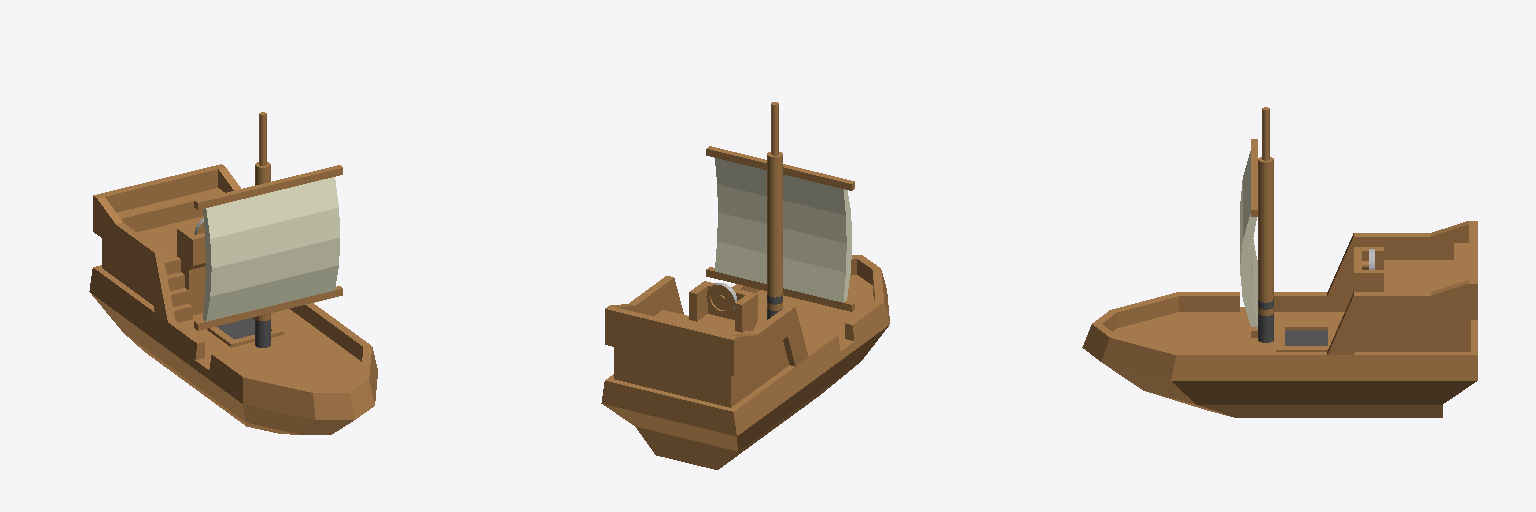
Rendered from enemy_0.obj.
The picture shows the model from 3 angles: view 1: azimuth 30°, elevation 25°; view 2: azimuth 150°, elevation 25°; view 3: azimuth 270°, elevation 25°; orthographic projection.
Visible parts, largest first — view 1: Mesh22_Group12_Group1_Model.001, Mesh12_Group14_Group12_Group1_Model.001, Mesh13_Group15_Group12_Group1_Model.001; view 2: Mesh22_Group12_Group1_Model.001, Mesh12_Group14_Group12_Group1_Model.001, Mesh13_Group15_Group12_Group1_Model.001, Mesh11_Group13_Group12_Group1_Model.001; view 3: Mesh22_Group12_Group1_Model.001, Mesh13_Group15_Group12_Group1_Model.001, Mesh12_Group14_Group12_Group1_Model.001.
Boxes of the visible parts, x1,y1,x2,y2 form: Mesh22_Group12_Group1_Model.001: [89, 164, 377, 434]; Mesh12_Group14_Group12_Group1_Model.001: [194, 165, 342, 330]; Mesh13_Group15_Group12_Group1_Model.001: [255, 112, 270, 347]; Mesh22_Group12_Group1_Model.001: [601, 255, 889, 469]; Mesh12_Group14_Group12_Group1_Model.001: [706, 146, 854, 311]; Mesh13_Group15_Group12_Group1_Model.001: [767, 102, 782, 319]; Mesh11_Group13_Group12_Group1_Model.001: [706, 283, 736, 314]; Mesh22_Group12_Group1_Model.001: [1082, 221, 1477, 417]; Mesh13_Group15_Group12_Group1_Model.001: [1258, 107, 1273, 342]; Mesh12_Group14_Group12_Group1_Model.001: [1240, 139, 1257, 337].
Size of the model in its own units: 3.75 by 7.26 by 8.84.